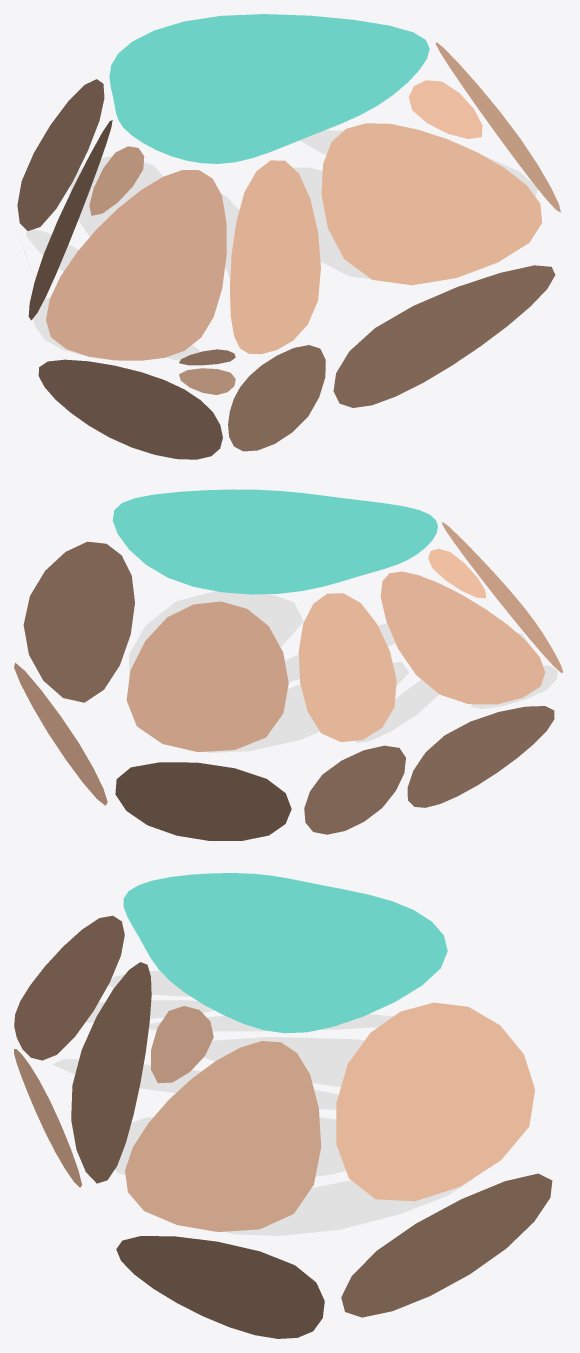
The model's file is background-rock-largef.glb.
3 views of the same model, one above another, from view 1: azimuth 30°, elevation 25°; view 2: azimuth 150°, elevation 25°; view 3: azimuth 270°, elevation 25° (orthographic). The views are drawn at different scales.
Parts seen in each view (by area): view 1: rock_largeF; view 2: rock_largeF; view 3: rock_largeF.
Part boxes in pixels (<box>): rock_largeF: <box>17,14,560,459</box>; rock_largeF: <box>14,489,562,840</box>; rock_largeF: <box>14,873,552,1338</box>.
Size of the model in its own units: 1.03 by 0.479 by 0.8546.
